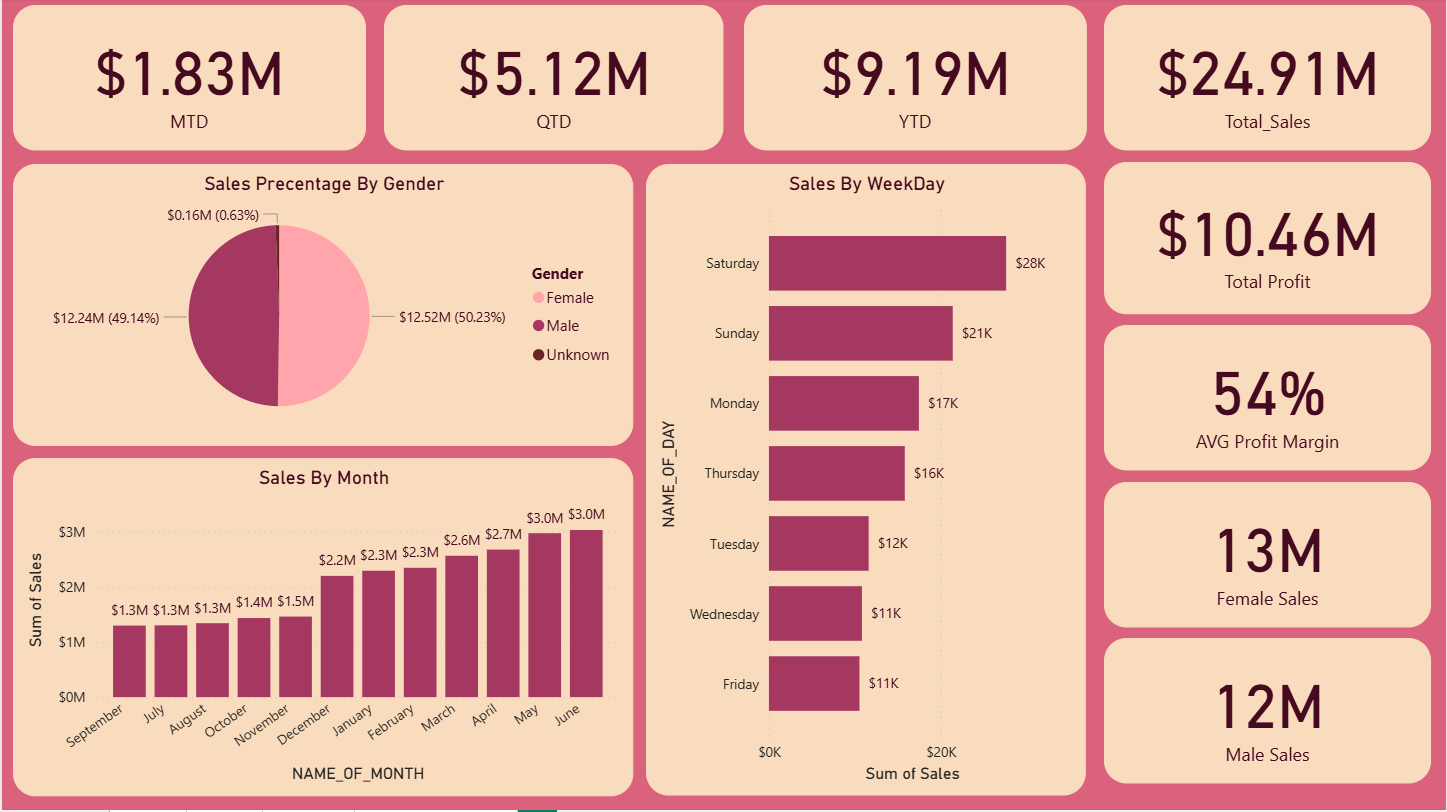

Layout of this report page (visuals, bound fields, positions):
{"tool":"powerbi","page":{"name":"Duplicate of Customer","canvas":[1280,720],"ordinal":3},"visuals":[{"type":"pieChart","title":"Sales Precentage By Gender","fields":{"Category":["Customers.Gender"],"Y":["Sum(Orders.Sales)"]},"box":[10,147.5,550,250],"z":0},{"type":"clusteredBarChart","title":"Sales By WeekDay","fields":{"Category":["Date.NAME_OF_DAY"],"Y":["Sum(Orders.Sales)"]},"box":[571.2,147.5,390,560],"z":1000},{"type":"card","fields":{"Values":["Orders.YTD"]},"box":[657.5,6.2,303.8,128.8],"z":2000},{"type":"clusteredColumnChart","title":"Sales By Month","fields":{"Category":["Date.NAME_OF_MONTH"],"Y":["Sum(Orders.Sales)"]},"box":[10,407.5,550,300],"z":3000},{"type":"card","fields":{"Values":["Orders.MTD"]},"box":[10,6.2,312.5,128.8],"z":4000},{"type":"card","fields":{"Values":["Orders.QTD"]},"box":[338.8,6.2,301.2,128.8],"z":5000},{"type":"card","fields":{"Values":["Customers.Total_Sales"]},"box":[977.5,6.2,290,128.8],"z":6000},{"type":"card","fields":{"Values":["Orders.Total Profit"]},"box":[977.5,145,290,135],"z":7000},{"type":"card","fields":{"Values":["Customers.AVG Profit Margin"]},"box":[977.5,290,290,128.8],"z":8000},{"type":"card","fields":{"Values":["Customers.Male Sales"]},"box":[977.5,567.5,290,128.8],"z":9000},{"type":"card","fields":{"Values":["Customers.Number Of Female"]},"box":[977.5,428.8,290,128.8],"z":10000}]}

Visuals, with their boxes in screenshot pixels (x1, y1, x2, y2), scaled from the page's 1280x720 canvas onto the 1447x812 screenshot:
"Sales Precentage By Gender" pieChart: bbox(11, 166, 633, 448)
"Sales By WeekDay" clusteredBarChart: bbox(646, 166, 1087, 798)
card - Orders.YTD: bbox(743, 7, 1087, 152)
"Sales By Month" clusteredColumnChart: bbox(11, 460, 633, 798)
card - Orders.MTD: bbox(11, 7, 365, 152)
card - Orders.QTD: bbox(383, 7, 724, 152)
card - Customers.Total_Sales: bbox(1105, 7, 1433, 152)
card - Orders.Total Profit: bbox(1105, 164, 1433, 316)
card - Customers.AVG Profit Margin: bbox(1105, 327, 1433, 472)
card - Customers.Male Sales: bbox(1105, 640, 1433, 785)
card - Customers.Number Of Female: bbox(1105, 484, 1433, 629)
